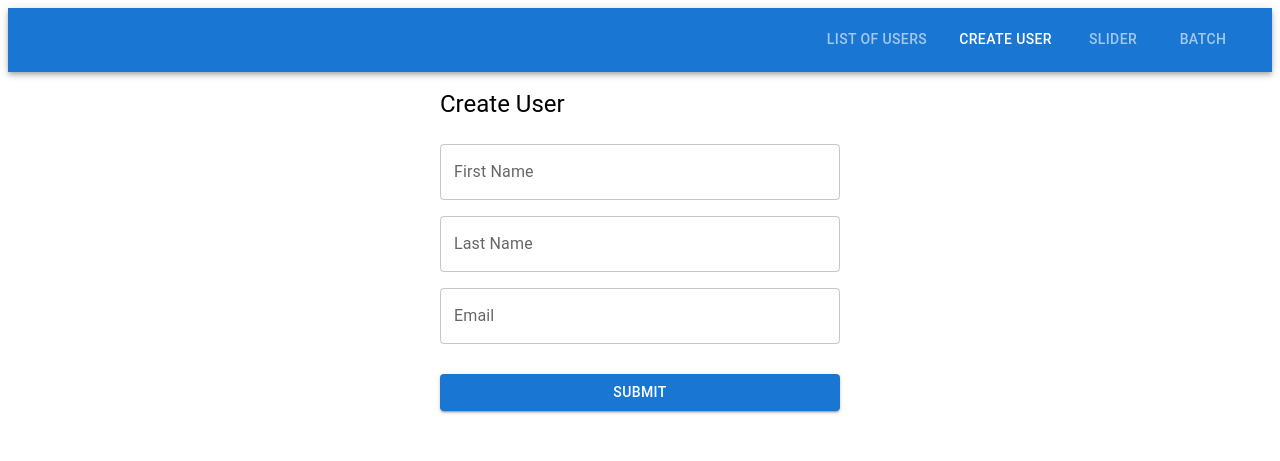
Test: Create User Form › should show validation error for invalid email
Type "Meet" into the field named "firstName" at [640, 172], box [440,144,840,200]
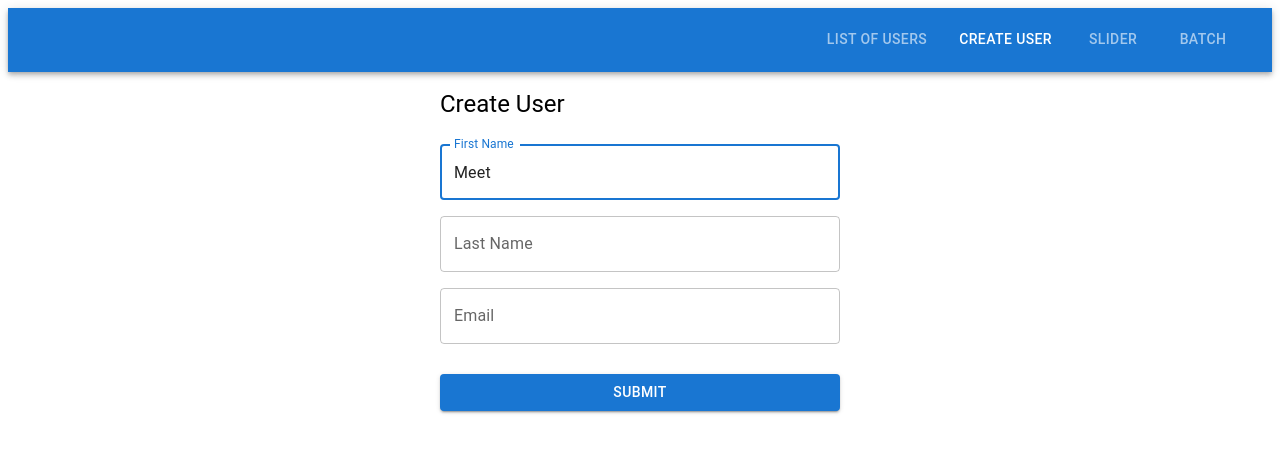
Type "Shah" into the field named "lastName" at [640, 244], box [440,216,840,272]
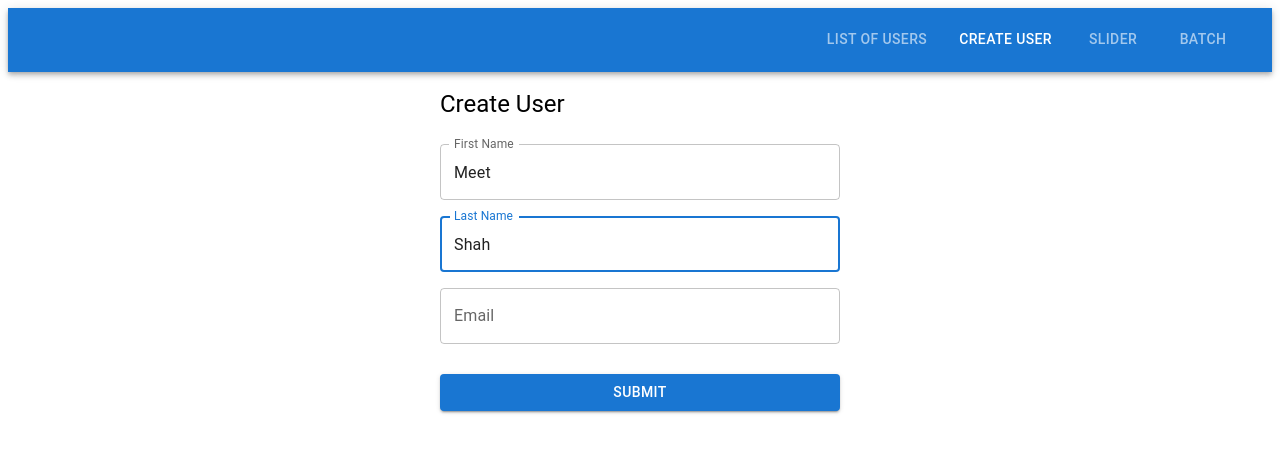
Type "invalid@email" into the field named "emailId" at [640, 316], box [440,288,840,344]
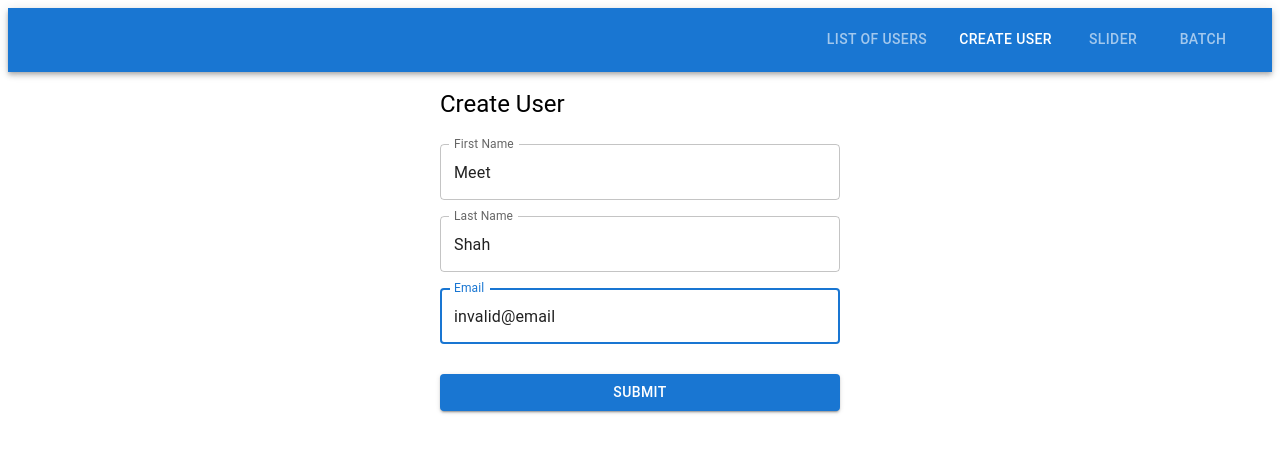
Click the submit button at [640, 393], box [440,374,840,411]
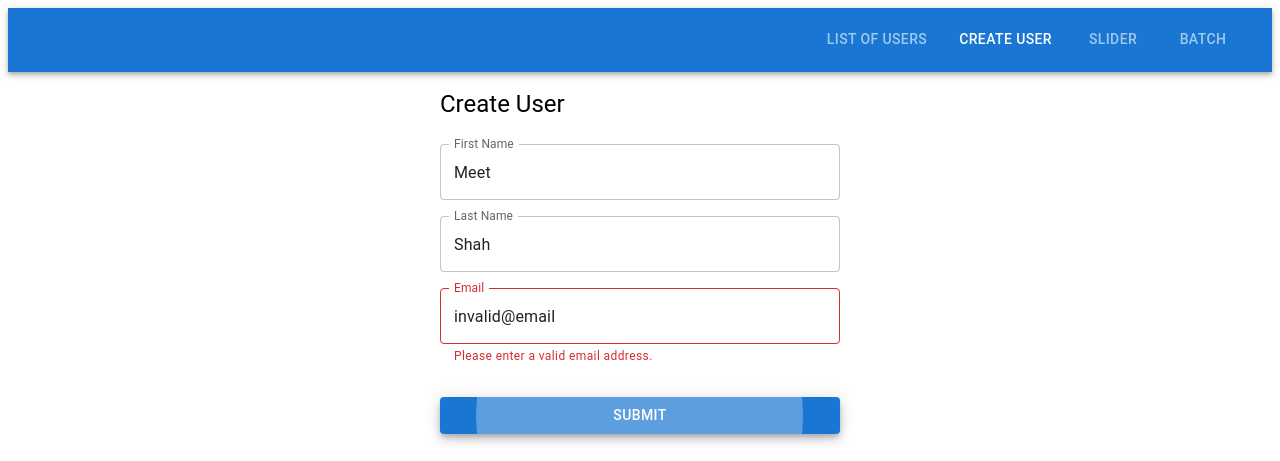
Result: the text "Please enter a valid email address." is shown at [454,349,653,363]
